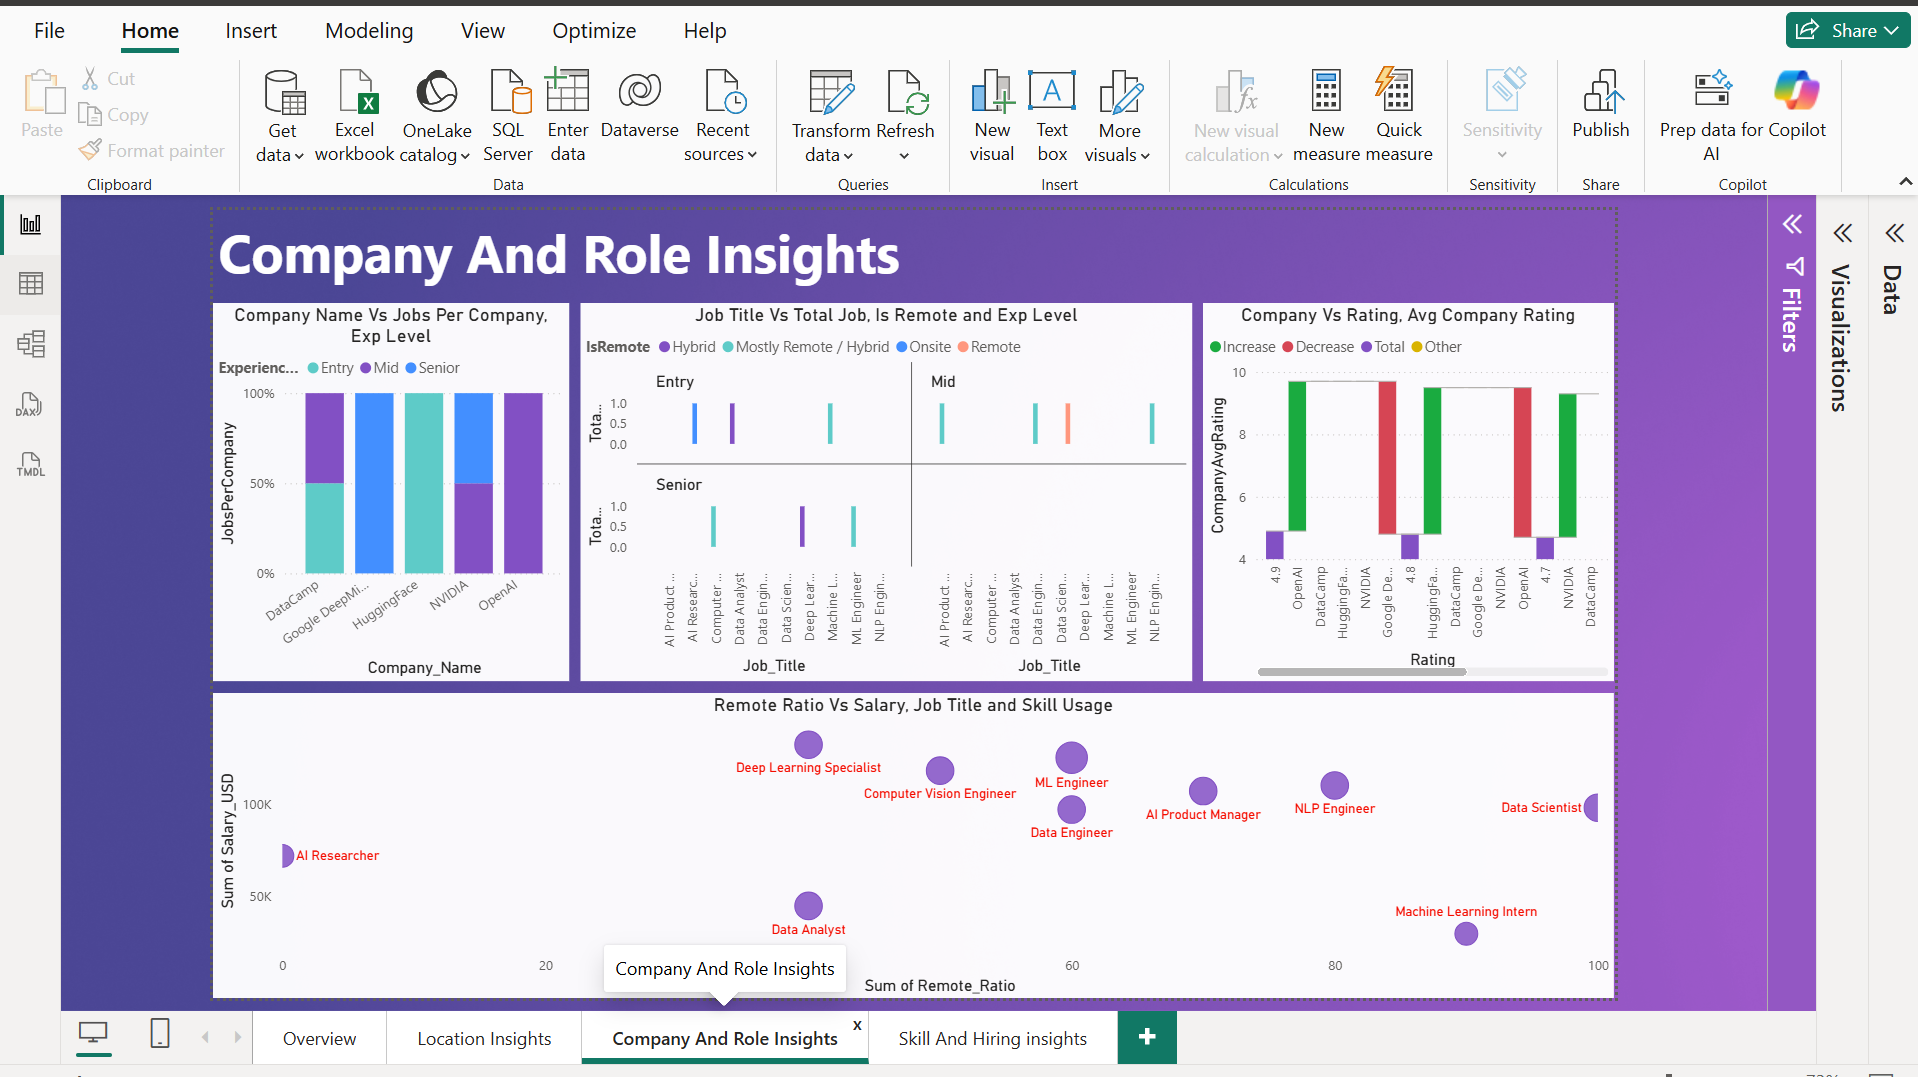

This screenshot's page, from the dashboard's own definition file:
{"tool":"powerbi","page":{"name":"Company And Role Insights ","canvas":[1280,720],"ordinal":2},"visuals":[{"type":"textbox","box":[0,0,639.7,85.3],"z":0},{"type":"hundredPercentStackedColumnChart","title":"Company Name Vs Jobs Per Company, Exp Level","fields":{"Category":["Dim_Companies.Company_Name"],"Y":["Dim_Companies.JobsPerCompany"],"Series":["Fact_Jobs.Experience_Level"]},"box":[0,85.3,325,345.6],"z":1000},{"type":"clusteredColumnChart","title":"Job Title Vs Total Job, Is Remote and Exp Level","fields":{"Category":["Fact_Jobs.Job_Title"],"Y":["Fact_Jobs.TotalJobs"],"Series":["Fact_Jobs.IsRemote"],"Rows":["Fact_Jobs.Experience_Level"]},"box":[335.3,85.3,558.8,345.6],"z":2000},{"type":"waterfallChart","title":"Company Vs Rating, Avg Company Rating","fields":{"Category":["Dim_Companies.Rating"],"Breakdown":["Dim_Companies.Company_Name"],"Y":["Dim_Companies.CompanyAvgRating"]},"box":[904.4,85.3,375,345.6],"z":3000},{"type":"scatterChart","title":"Remote Ratio Vs Salary, Job Title and Skill Usage","fields":{"Category":["Fact_Jobs.Job_Title"],"X":["Sum(Fact_Jobs.Remote_Ratio)"],"Y":["Sum(Fact_Jobs.Salary_USD)"],"Size":["Dim_Skills.SkillUsageCount"]},"box":[0,441.2,1279.4,279.4],"z":4000}]}

Visuals, with their boxes on the page's 1280x720 design canvas (x1, y1, x2, y2). These are canvas units, not pixel positions in the 1918x1077 screenshot, which may show the page scaled, cropped or inside an application window:
textbox: {"x1": 0, "y1": 0, "x2": 640, "y2": 85}
"Company Name Vs Jobs Per Company, Exp Level" hundredPercentStackedColumnChart: {"x1": 0, "y1": 85, "x2": 325, "y2": 431}
"Job Title Vs Total Job, Is Remote and Exp Level" clusteredColumnChart: {"x1": 335, "y1": 85, "x2": 894, "y2": 431}
"Company Vs Rating, Avg Company Rating" waterfallChart: {"x1": 904, "y1": 85, "x2": 1279, "y2": 431}
"Remote Ratio Vs Salary, Job Title and Skill Usage" scatterChart: {"x1": 0, "y1": 441, "x2": 1279, "y2": 721}
